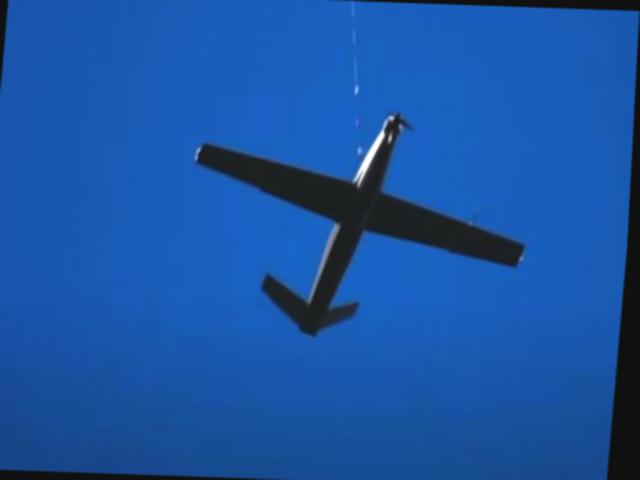iha: (178, 106, 540, 346)
